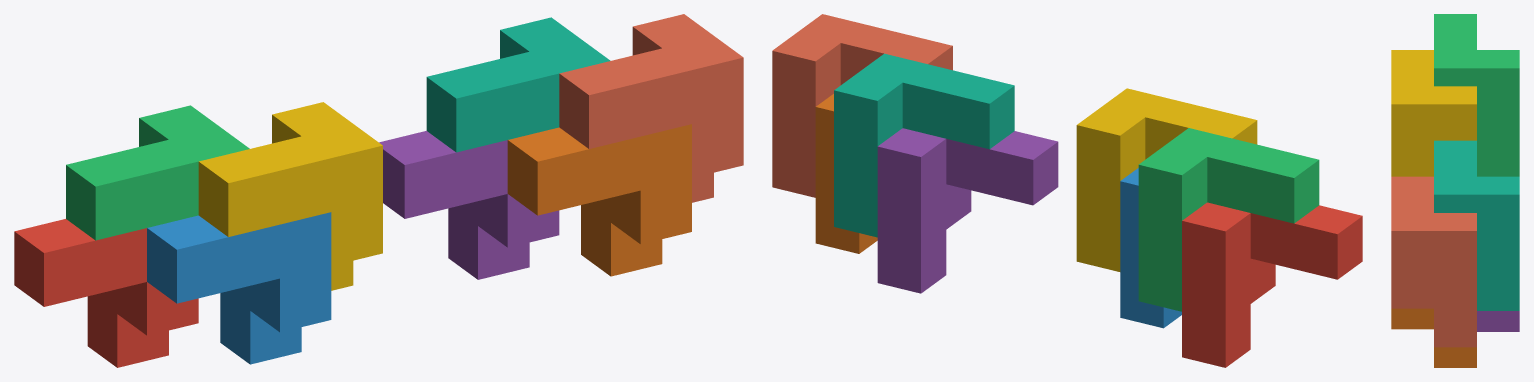
File: tiling.obj
The picture shows the model from 3 angles, left to right: view 1: azimuth 30°, elevation 25°; view 2: azimuth 150°, elevation 25°; view 3: azimuth 270°, elevation 25°; orthographic projection. The views are drawn at different scales.
Visible parts, largest first — view 1: copy_1_domain_4, copy_1_domain_8, copy_1_domain_2, copy_1_domain_6, copy_1_domain_1, copy_1_domain_5, copy_1_domain_7, copy_1_domain_3; view 2: copy_1_domain_5, copy_1_domain_1, copy_1_domain_3, copy_1_domain_7, copy_1_domain_4, copy_1_domain_8, copy_1_domain_6, copy_1_domain_2; view 3: copy_1_domain_8, copy_1_domain_7, copy_1_domain_3, copy_1_domain_4, copy_1_domain_6, copy_1_domain_5.
Boxes of the visible parts, left/top/right/bottom form: copy_1_domain_4: left=198, top=102, right=382, bottom=290; copy_1_domain_8: left=559, top=14, right=743, bottom=202; copy_1_domain_2: left=147, top=212, right=331, bottom=364; copy_1_domain_6: left=507, top=124, right=691, bottom=276; copy_1_domain_1: left=14, top=219, right=198, bottom=367; copy_1_domain_5: left=379, top=131, right=559, bottom=279; copy_1_domain_7: left=426, top=17, right=610, bottom=152; copy_1_domain_3: left=66, top=105, right=249, bottom=240; copy_1_domain_5: left=877, top=128, right=1058, bottom=293; copy_1_domain_1: left=1182, top=202, right=1362, bottom=367; copy_1_domain_3: left=1138, top=128, right=1319, bottom=311; copy_1_domain_7: left=834, top=53, right=1014, bottom=237; copy_1_domain_4: left=1076, top=88, right=1257, bottom=271; copy_1_domain_8: left=772, top=14, right=952, bottom=197; copy_1_domain_6: left=815, top=94, right=877, bottom=253; copy_1_domain_2: left=1120, top=168, right=1181, bottom=328; copy_1_domain_8: left=1391, top=176, right=1476, bottom=347; copy_1_domain_7: left=1434, top=140, right=1519, bottom=310; copy_1_domain_3: left=1434, top=14, right=1519, bottom=176; copy_1_domain_4: left=1391, top=50, right=1476, bottom=176; copy_1_domain_6: left=1391, top=308, right=1476, bottom=367; copy_1_domain_5: left=1477, top=311, right=1519, bottom=331.
Bounding box in the file's own units: 13 × 4 × 3.
